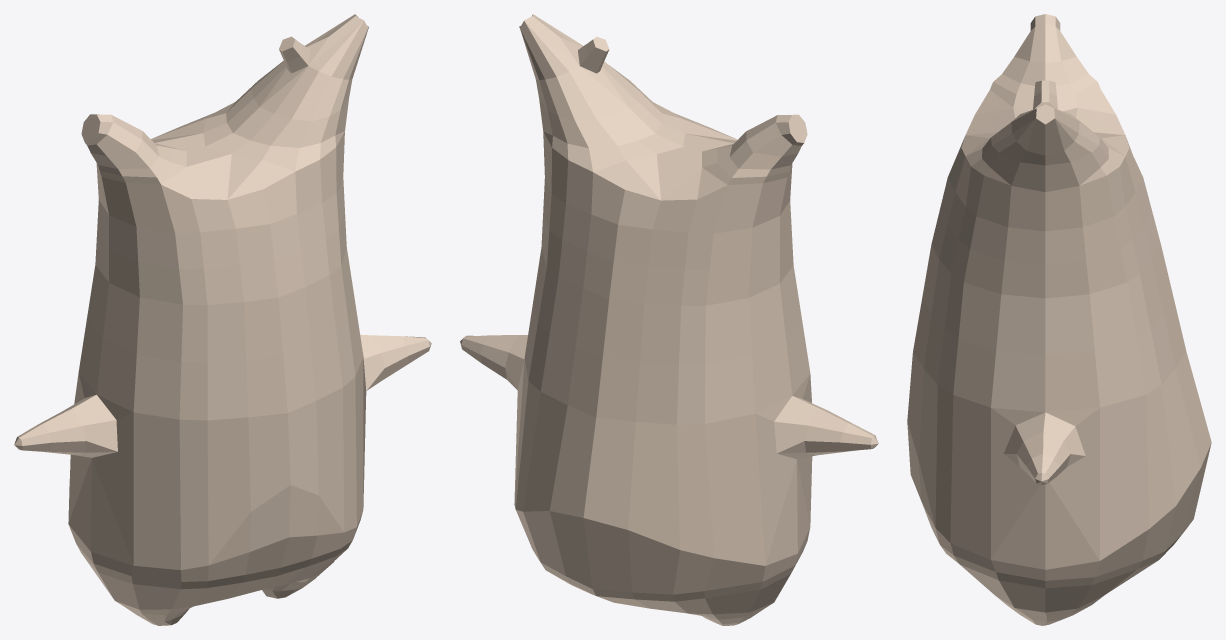
Rendered from frame_0022.obj.
3 views of the same model, side by side, from view 1: azimuth 30°, elevation 25°; view 2: azimuth 150°, elevation 25°; view 3: azimuth 270°, elevation 25° (orthographic).
Visible parts, largest first — view 1: korok; view 2: korok; view 3: korok.
Boxes of the visible parts, left/top/right/bottom form: korok: left=14, top=14, right=431, bottom=625; korok: left=460, top=14, right=878, bottom=625; korok: left=907, top=14, right=1211, bottom=625.
Bounding box in the file's own units: 1.68 × 2.16 × 1.07.
